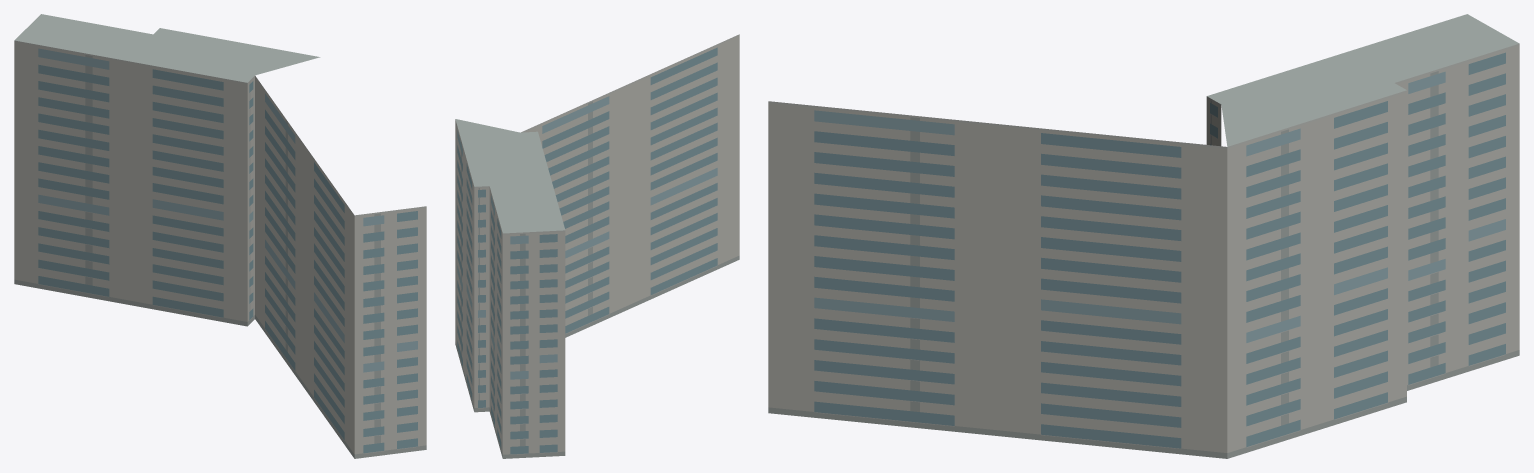
The model's file is residential-e17a4cba-1cad-49fd-b389-a85a57585843.glb.
3 renders of one model, left to right at view 1: azimuth 30°, elevation 25°; view 2: azimuth 150°, elevation 25°; view 3: azimuth 270°, elevation 25°, orthographic. The views are drawn at different scales.
Visible parts, largest first — view 1: residential-e17a4cba-1cad-49fd-b389-a85a57585843.tmp; view 2: residential-e17a4cba-1cad-49fd-b389-a85a57585843.tmp; view 3: residential-e17a4cba-1cad-49fd-b389-a85a57585843.tmp.
Part boxes in pixels (x1,y1,x2,y2): residential-e17a4cba-1cad-49fd-b389-a85a57585843.tmp: (14, 14, 426, 458); residential-e17a4cba-1cad-49fd-b389-a85a57585843.tmp: (455, 34, 739, 458); residential-e17a4cba-1cad-49fd-b389-a85a57585843.tmp: (768, 14, 1519, 458).
Size of the model in its own units: 37.46 by 41 by 89.48.
